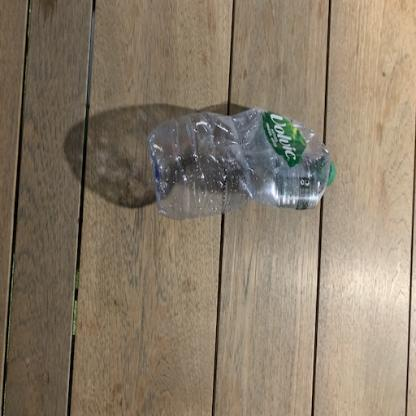trash: (135, 109, 336, 219)
